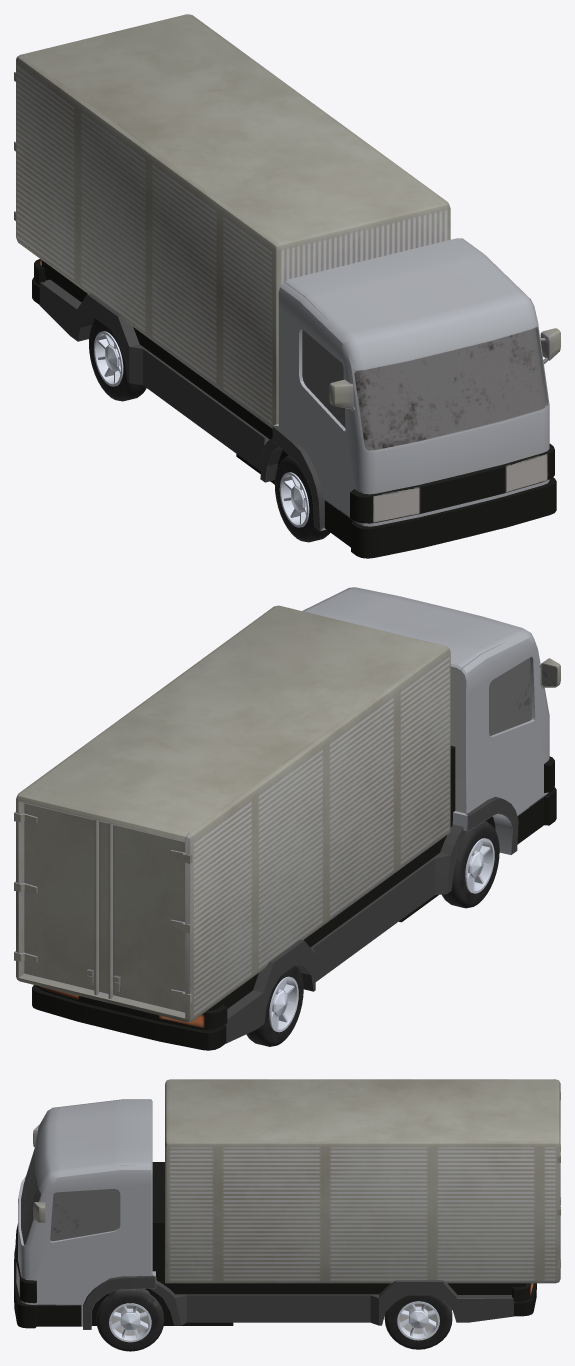
Rendered from Car_Model_03.fbx.
3 views of the same model, one above another, from view 1: azimuth 30°, elevation 25°; view 2: azimuth 150°, elevation 25°; view 3: azimuth 270°, elevation 25° (orthographic). The views are drawn at different scales.
Parts seen in each view (by area): view 1: Cube.003, Cube.004, Cube.005, Cylinder.001, Cube.006, Cube.017; view 2: Cube.003, Cube.004, Cube.005, Cylinder.001, Cube.007, Cylinder.002, Cube.006; view 3: Cube.003, Cube.004, Cube.005, Cylinder.001, Cube.006, Cube.007.
Part boxes in pixels (x1=…): Cube.003: x1=16, y1=14, x2=450, y2=428; Cube.004: x1=272, y1=238, x2=556, y2=558; Cube.005: x1=39, y1=279, x2=282, y2=482; Cylinder.001: x1=89, y1=319, x2=330, y2=542; Cube.006: x1=41, y1=260, x2=288, y2=484; Cube.017: x1=329, y1=328, x2=560, y2=408; Cube.003: x1=16, y1=605, x2=450, y2=1021; Cube.004: x1=302, y1=587, x2=556, y2=854; Cube.005: x1=224, y1=824, x2=466, y2=1043; Cylinder.001: x1=246, y1=821, x2=499, y2=1046; Cube.007: x1=32, y1=985, x2=227, y2=1050; Cylinder.002: x1=14, y1=811, x2=192, y2=1003; Cube.006: x1=207, y1=746, x2=495, y2=1010; Cube.003: x1=165, y1=1079, x2=560, y2=1283; Cube.004: x1=14, y1=1099, x2=156, y2=1329; Cube.005: x1=149, y1=1280, x2=513, y2=1325; Cylinder.001: x1=96, y1=1289, x2=452, y2=1351; Cube.006: x1=92, y1=1162, x2=527, y2=1325; Cube.007: x1=512, y1=1283, x2=536, y2=1316.
Bounding box in the file's own units: 1.86 × 2.16 × 5.11.
